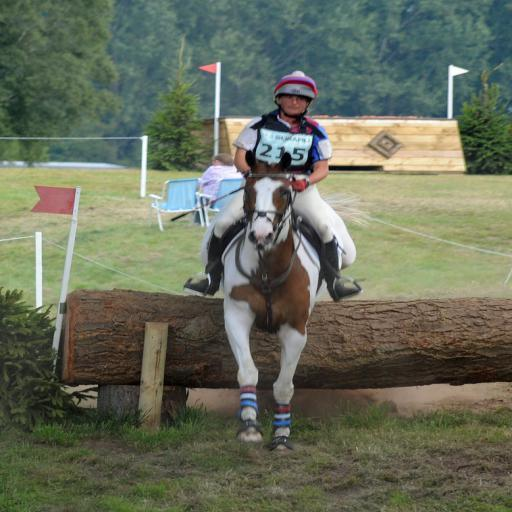horse: (219, 148, 320, 456)
